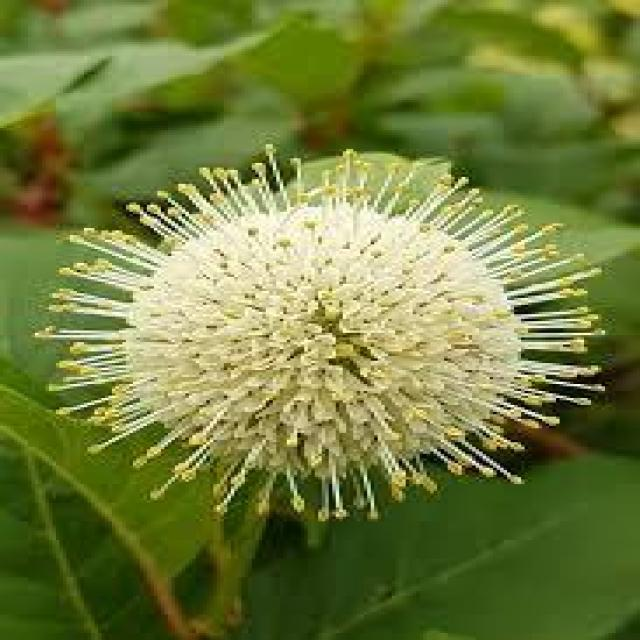organic waste: (40, 155, 610, 518)
